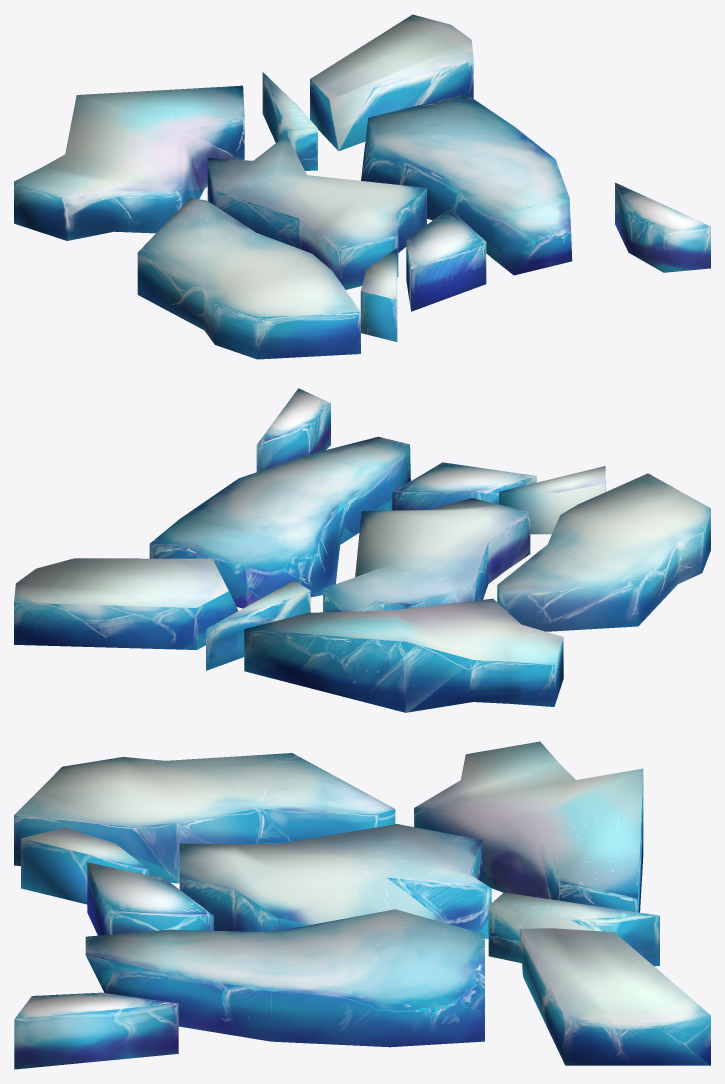
File: IceShards.fbx
3 views of the same model, one above another, from view 1: azimuth 30°, elevation 25°; view 2: azimuth 150°, elevation 25°; view 3: azimuth 270°, elevation 25° (orthographic). The views are drawn at different scales.
Visible parts, largest first — view 1: ice shards; view 2: ice shards; view 3: ice shards.
Part boxes in pixels (<box>): ice shards: <box>14,14,710,359</box>; ice shards: <box>14,388,710,712</box>; ice shards: <box>14,741,710,1069</box>.
Bounding box in the file's own units: 180 × 25.05 × 186.
